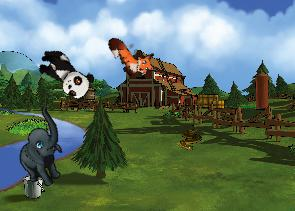elephant: (0, 104, 85, 193)
fox: (104, 24, 162, 86)
panda: (31, 44, 98, 104)
